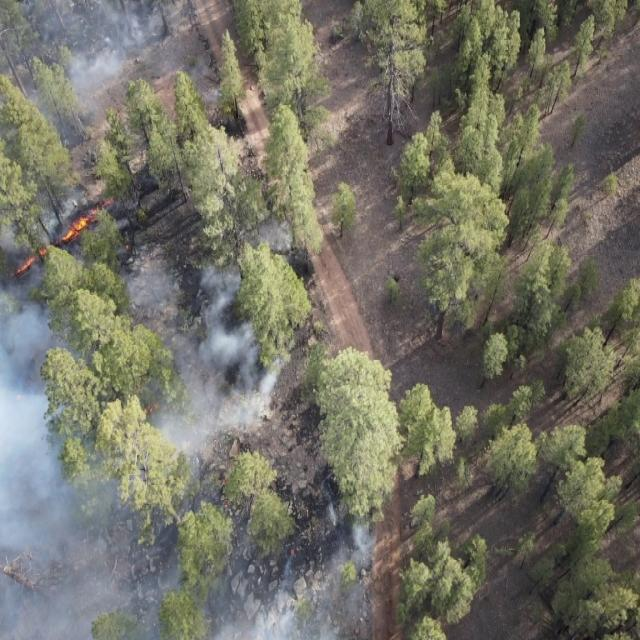fire: (8, 193, 114, 285), (141, 401, 161, 419), (14, 391, 26, 401), (121, 243, 132, 253), (220, 476, 230, 486), (223, 500, 230, 510), (290, 548, 296, 556)
smoke: (0, 181, 303, 640), (0, 0, 217, 138), (305, 499, 390, 640)
